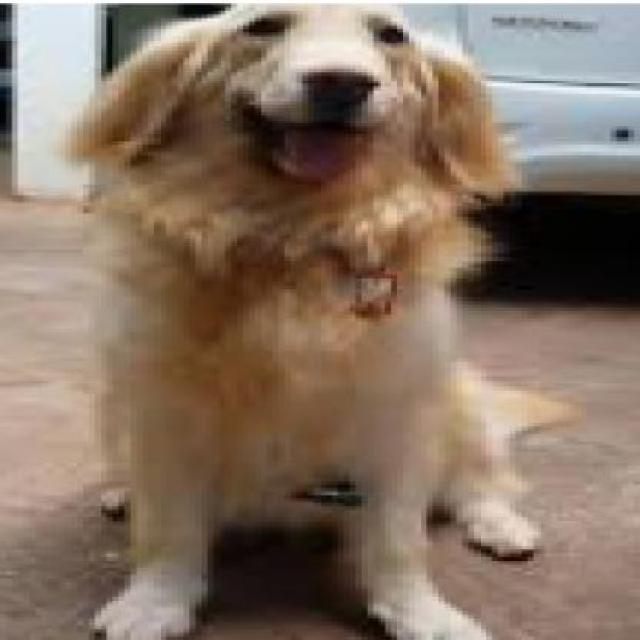Dog: (48, 3, 592, 637)
